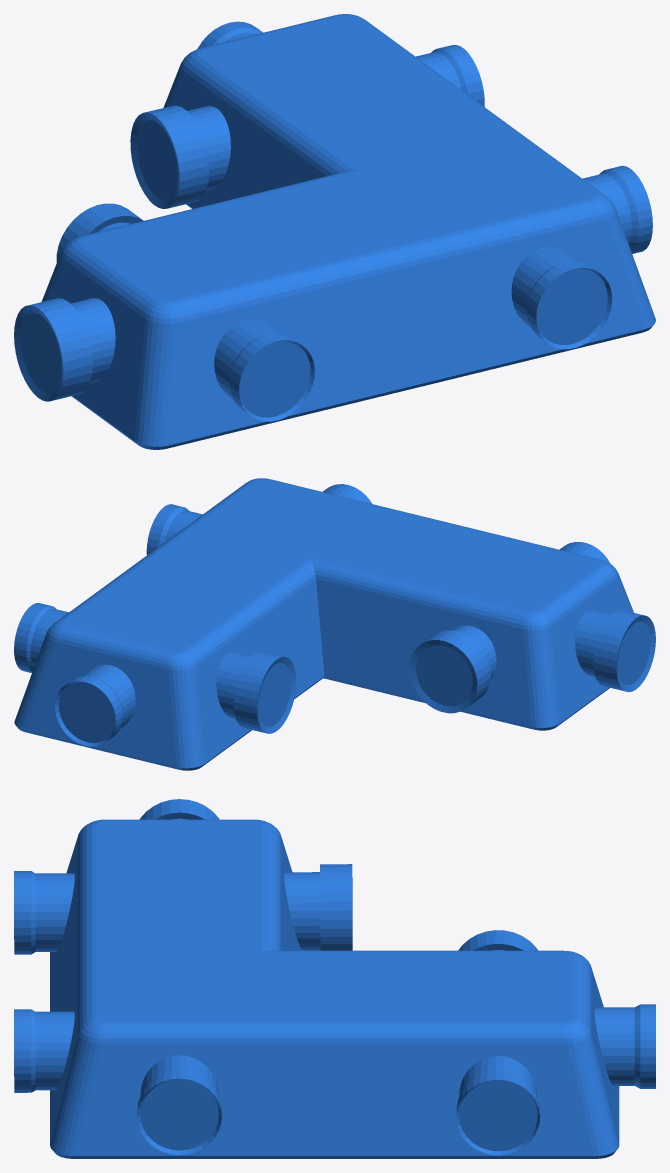
Rendered from Num8.fbx.
3 views of the same model, one above another, from view 1: azimuth 30°, elevation 25°; view 2: azimuth 150°, elevation 25°; view 3: azimuth 270°, elevation 25° (orthographic). The views are drawn at different scales.
Parts seen in each view (by area): view 1: Cube.004; view 2: Cube.004; view 3: Cube.004.
Part boxes in pixels (<box>): Cube.004: <box>14,14,655,449</box>; Cube.004: <box>14,478,655,770</box>; Cube.004: <box>14,799,655,1158</box>.
Bounding box in the file's own units: 4.98 × 1 × 4.91.
